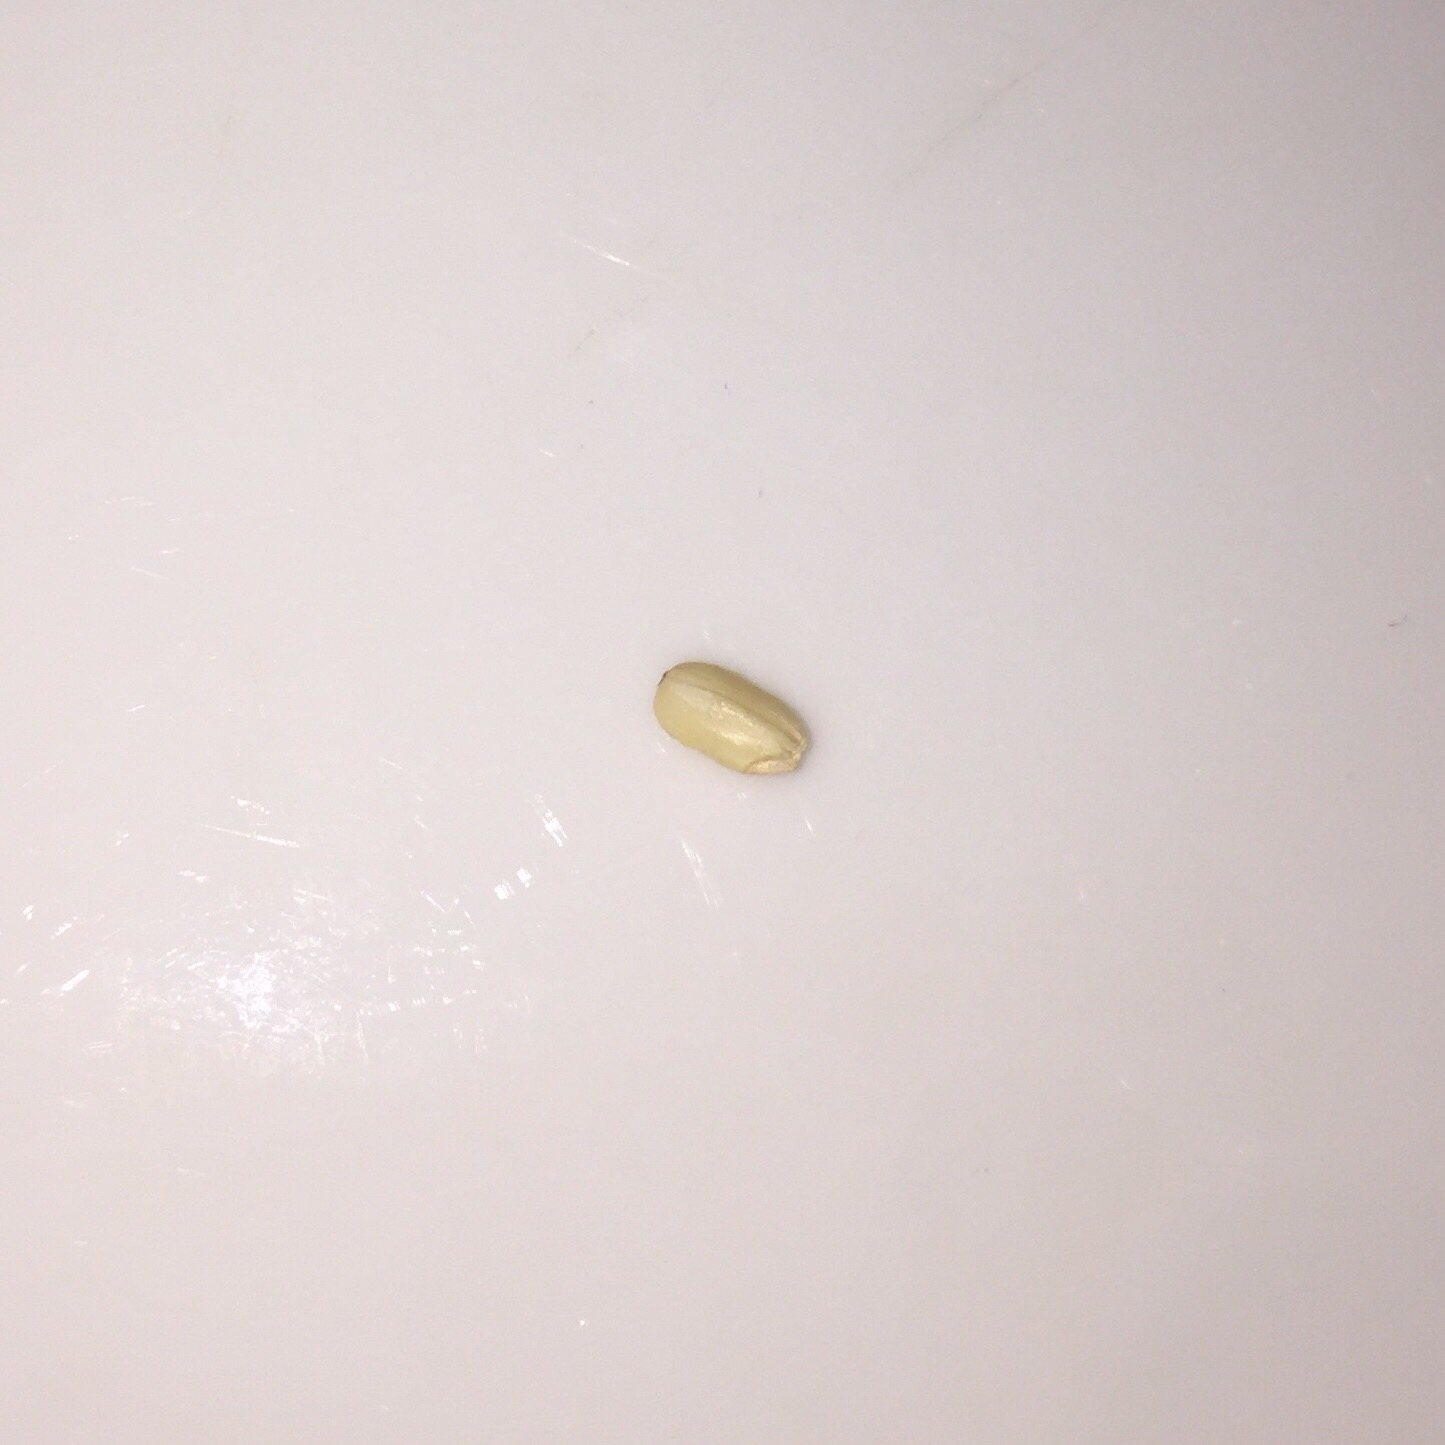Gao Lut Bac: (648, 644, 827, 809)
